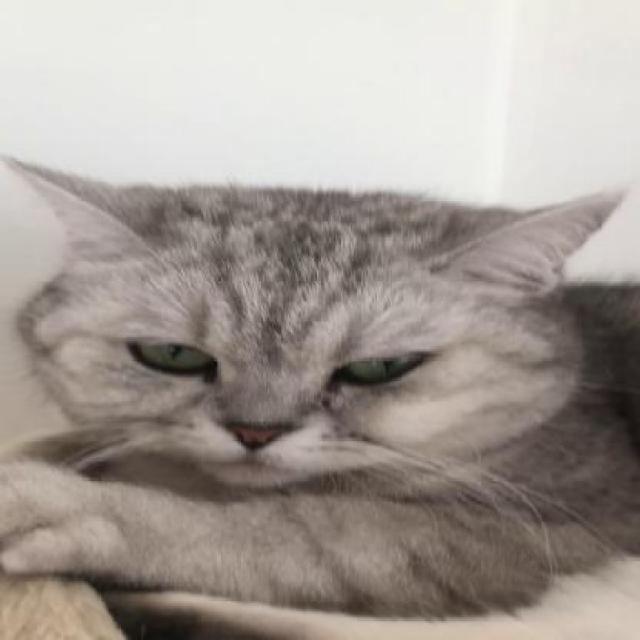cat-face: (7, 160, 630, 485)
